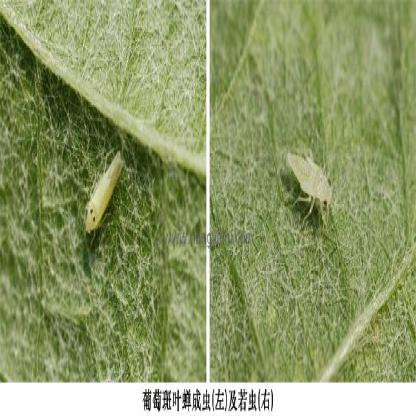green-leafhopper: (285, 142, 334, 230), (82, 149, 126, 244)
